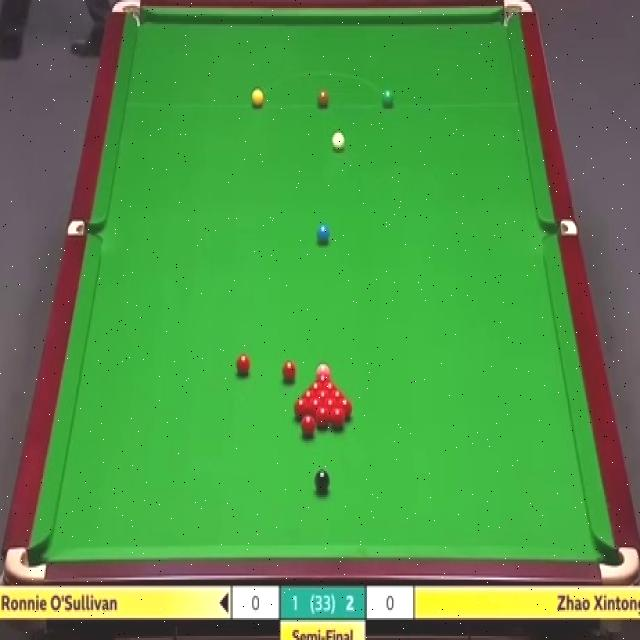black-ball: (315, 468, 330, 494)
blue-ball: (316, 223, 330, 242)
brown-ball: (316, 91, 330, 107)
green-ball: (382, 87, 396, 110)
pink-ball: (316, 363, 332, 380)
red-ball: (330, 405, 346, 432), (281, 359, 297, 385), (294, 396, 310, 421), (300, 413, 316, 434), (316, 405, 331, 427), (237, 353, 250, 378), (322, 398, 339, 417), (337, 398, 353, 417), (330, 388, 346, 402), (316, 388, 330, 403), (310, 399, 321, 418), (301, 388, 317, 401), (323, 378, 336, 394), (309, 380, 324, 393)
white-ball: (332, 130, 346, 154)
yellow-ball: (250, 88, 265, 108)
